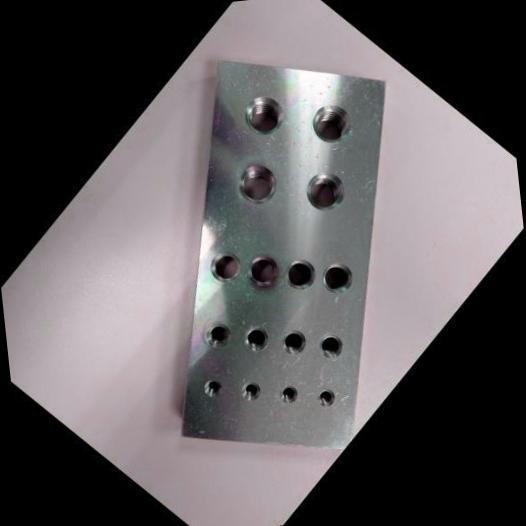hole: (294, 160, 357, 224), (232, 84, 296, 146), (300, 93, 362, 154), (226, 153, 288, 214), (275, 249, 325, 299), (238, 246, 287, 295), (201, 242, 249, 291), (313, 254, 362, 302), (235, 318, 276, 360), (274, 322, 314, 362), (311, 326, 351, 366), (199, 316, 238, 356), (235, 374, 267, 407), (198, 372, 228, 404), (311, 382, 341, 414), (274, 380, 304, 410)
